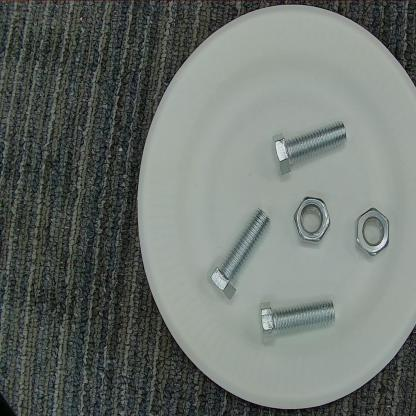FOD: (199, 205, 276, 300), (271, 117, 348, 181), (258, 297, 342, 342), (353, 205, 391, 262), (291, 194, 332, 244)
